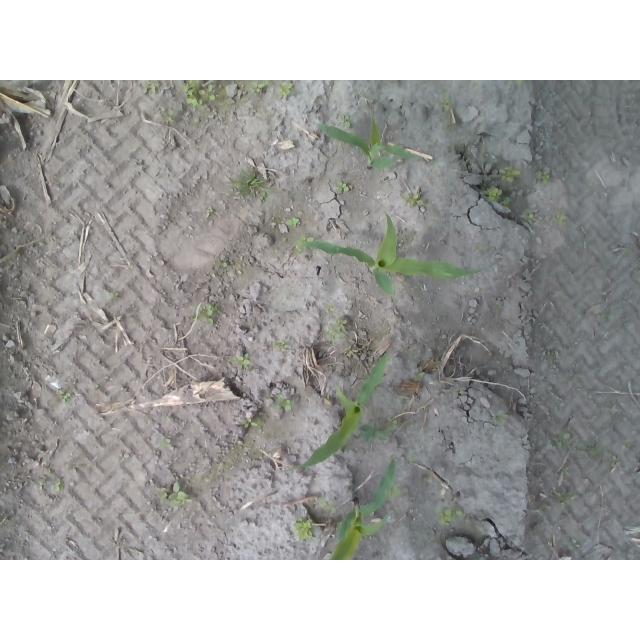Maize: (293, 216, 495, 297), (279, 352, 398, 469), (326, 460, 399, 561), (312, 113, 419, 176)
Weeds: (181, 80, 219, 109), (159, 479, 190, 508), (361, 422, 390, 445), (324, 318, 348, 342), (544, 429, 571, 450), (272, 394, 296, 415), (487, 185, 511, 206), (439, 507, 465, 526), (293, 516, 312, 541), (195, 303, 215, 326), (501, 165, 522, 184), (318, 497, 338, 516), (402, 193, 424, 208), (232, 354, 252, 370), (275, 81, 293, 96), (535, 166, 550, 184), (142, 80, 159, 93), (336, 179, 351, 193), (248, 82, 264, 95), (440, 95, 451, 113), (527, 208, 538, 225), (340, 113, 353, 127), (325, 302, 338, 314), (160, 110, 172, 123), (57, 391, 71, 402), (157, 439, 171, 450), (275, 340, 289, 351), (286, 216, 301, 226), (244, 419, 257, 430), (215, 257, 228, 267), (53, 481, 63, 492), (560, 215, 567, 226)
